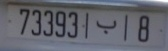3: (30, 8, 42, 36), (42, 9, 54, 37), (67, 11, 79, 38)
7: (18, 7, 31, 36)
8: (137, 14, 150, 43)
9: (54, 10, 67, 38)
b: (94, 17, 119, 35)
